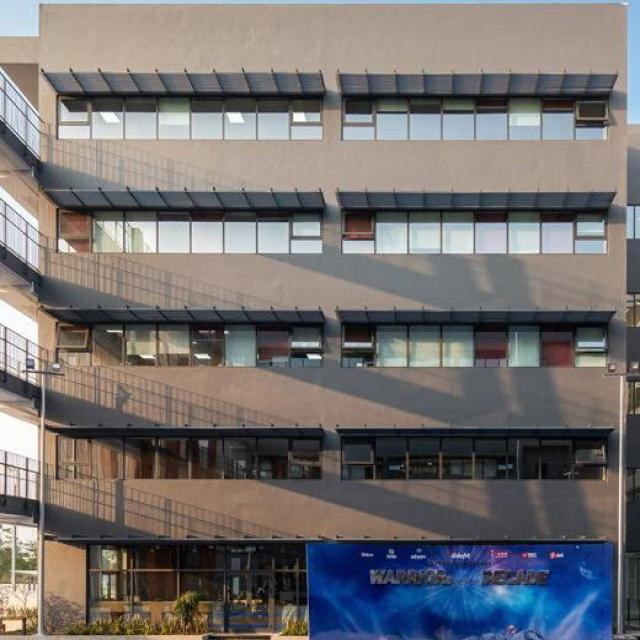door: (224, 571, 275, 632)
window: (85, 543, 308, 632), (45, 92, 325, 142), (337, 431, 607, 481), (49, 432, 323, 481), (342, 95, 610, 143), (339, 318, 606, 366), (51, 321, 325, 366), (337, 209, 604, 253), (58, 208, 323, 251)
